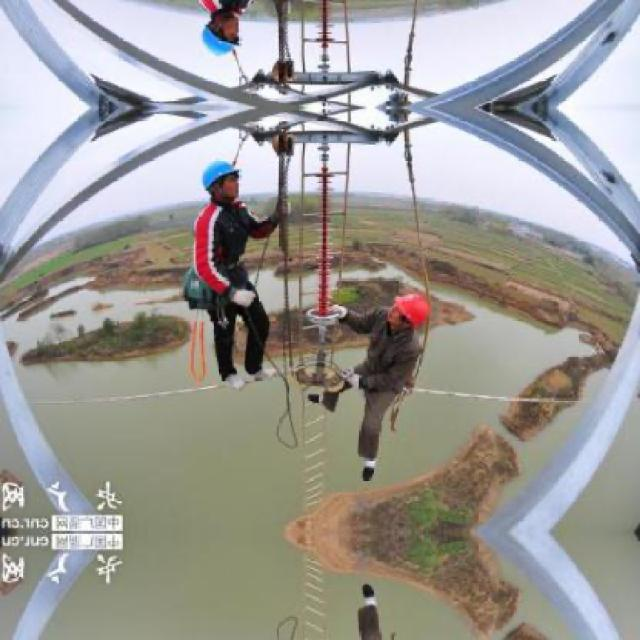con casco: (366, 251, 482, 352), (177, 141, 272, 198)
